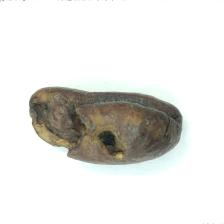NG: (29, 86, 182, 164)
